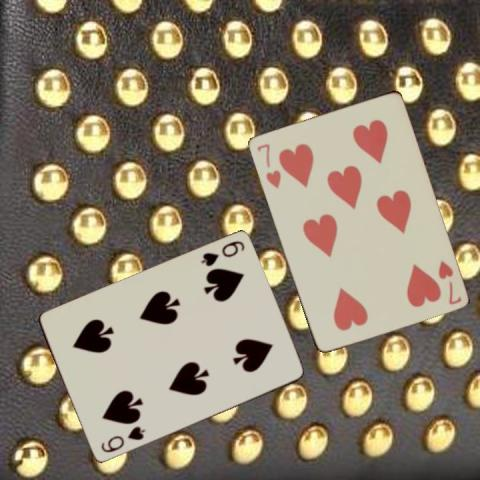6s: (97, 423, 147, 455), (198, 238, 246, 269)
7h: (253, 140, 282, 190), (434, 257, 462, 306)
